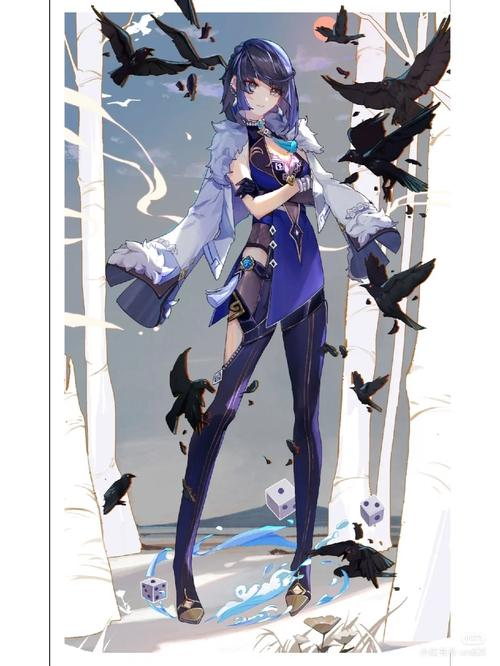夜兰: (170, 39, 367, 623)
